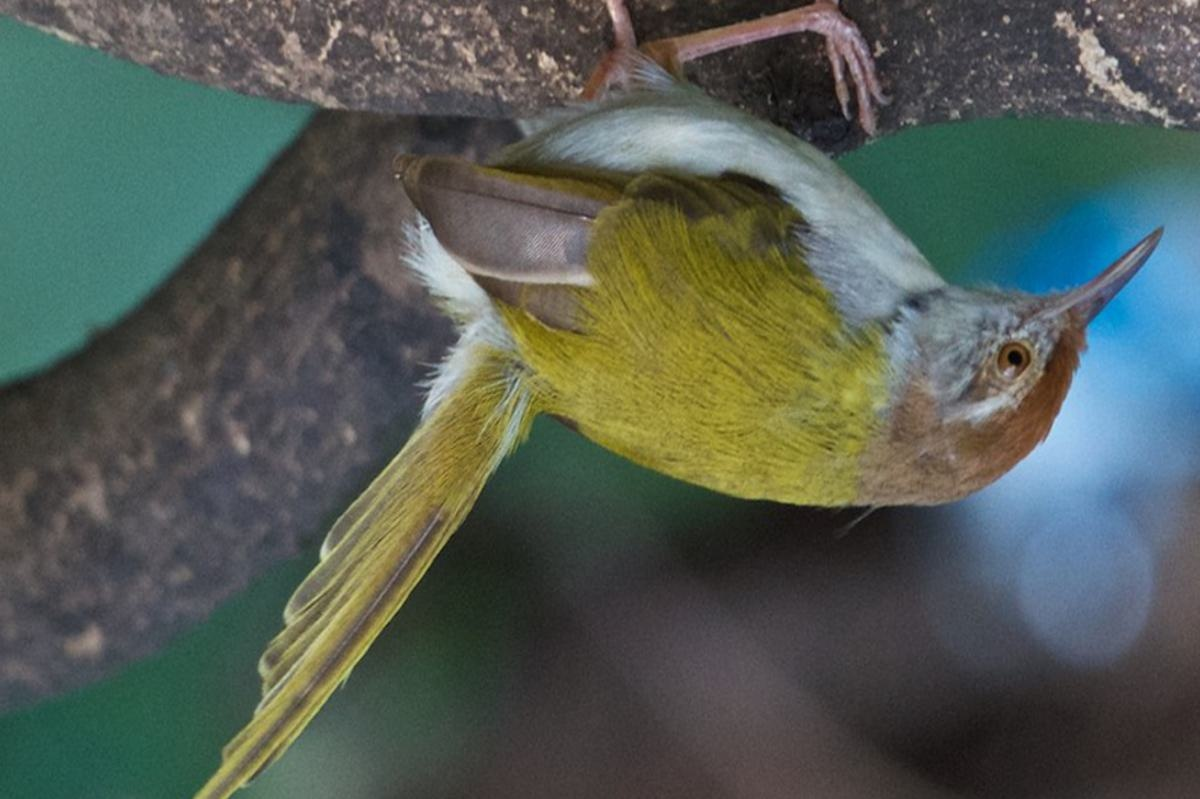tailorbird: (289, 45, 1173, 689)
